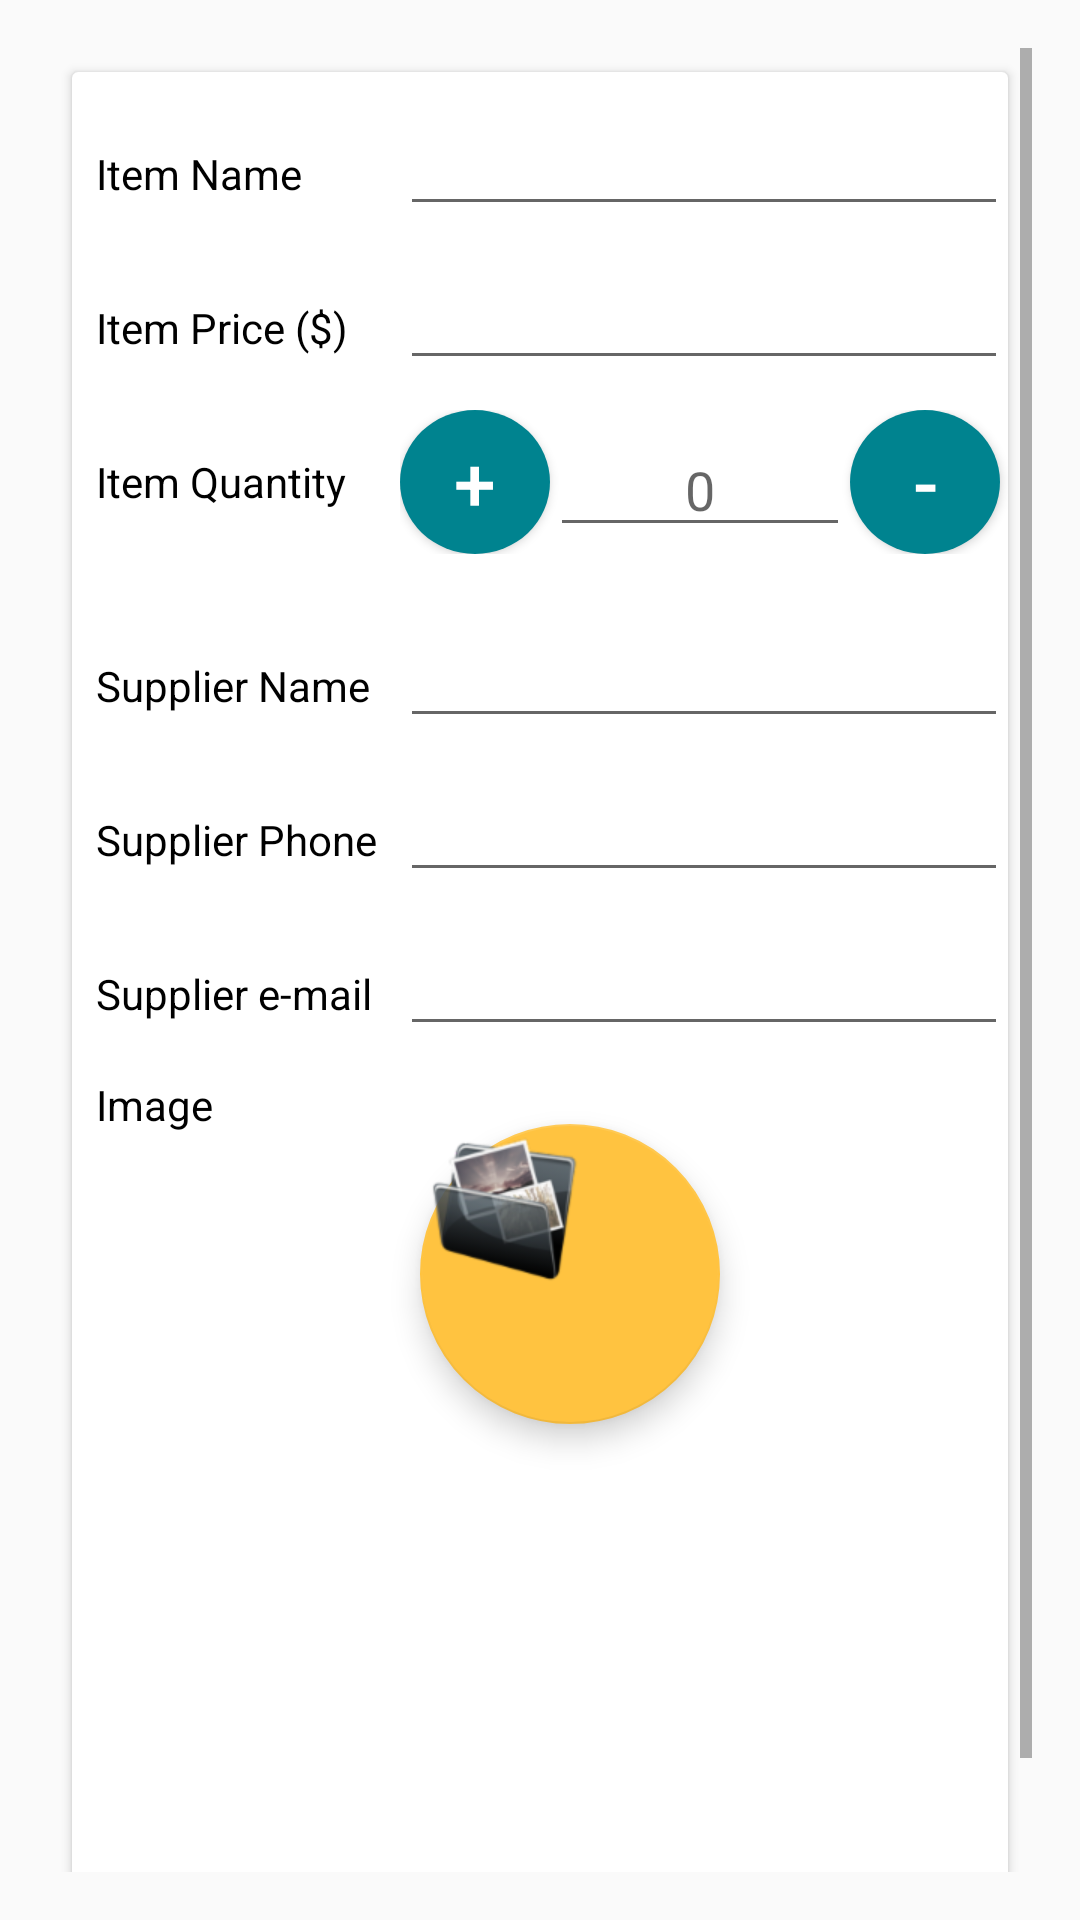

Screen size 1080*1920. Icon name, then its box in pixels as [x1,y1,x2,y2]:
pictures: [420,1124,720,1424]
